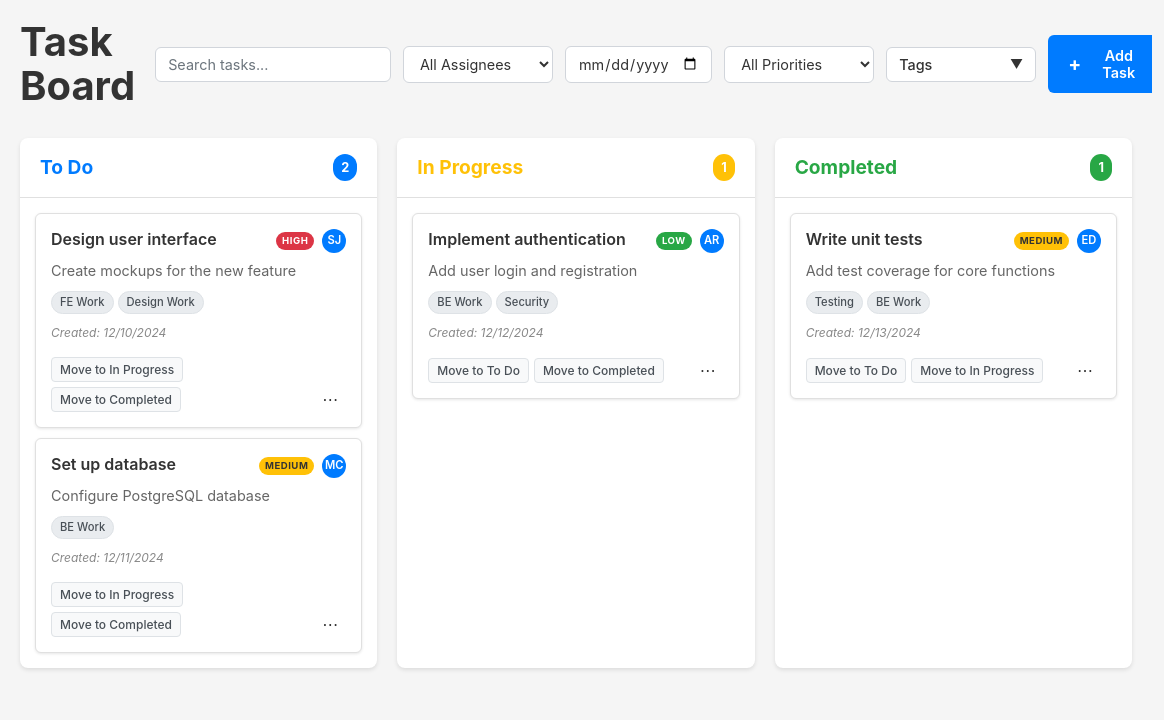
it: TaskBoard Component › priority filter shows only tasks with selected priority
The width and height of the screenshot is (1164, 720).
Select "High Priority" in the 2nd dropdown showing "All Priorities" at (799, 64), box [724,46,874,82]
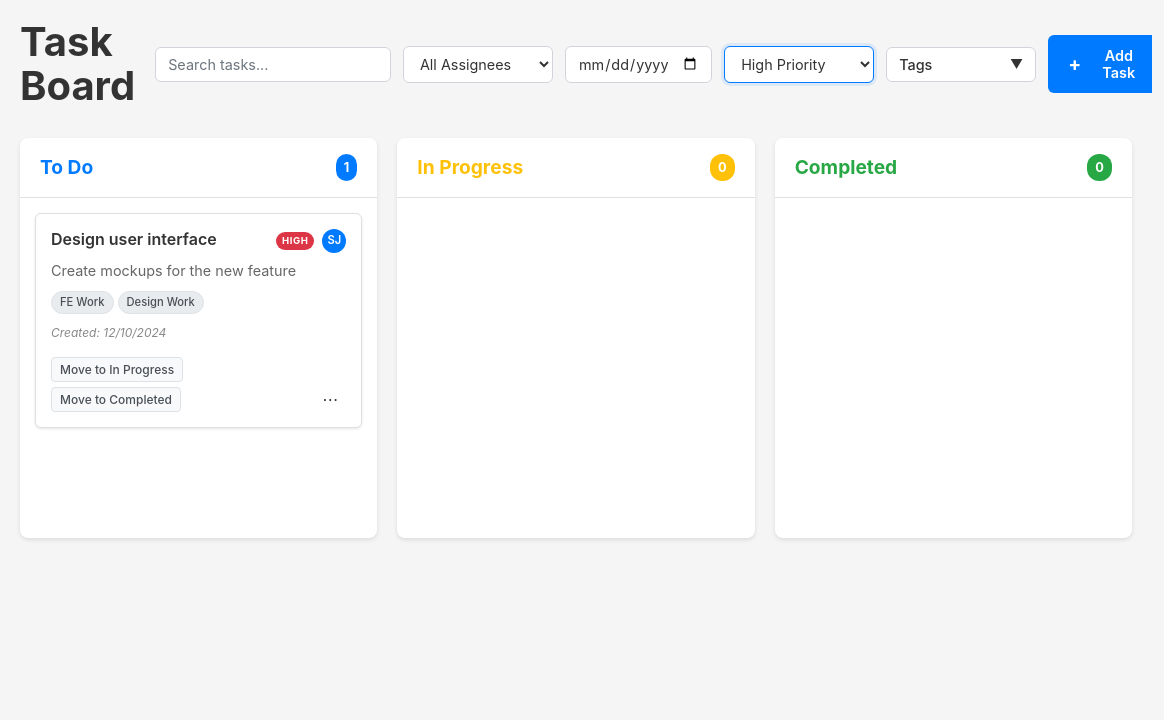
Expected: the heading "Design user interface" is shown, [51,229,217,249]
Expected: the heading "Set up database" is gone
